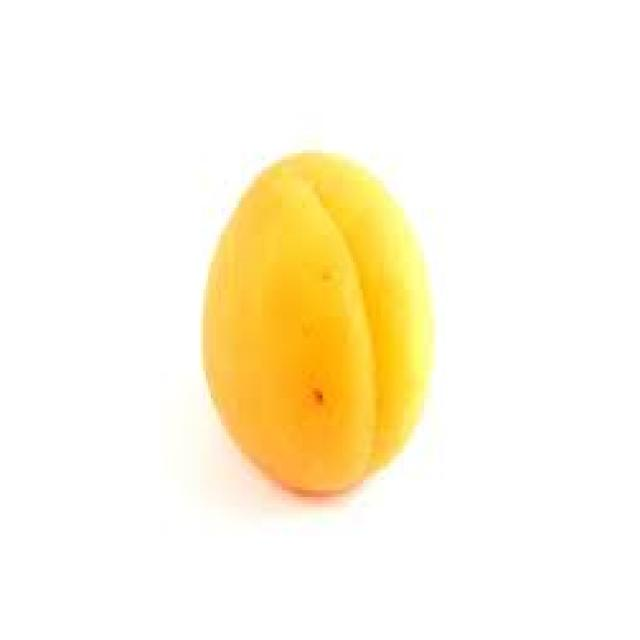apricot: (191, 140, 429, 507)
